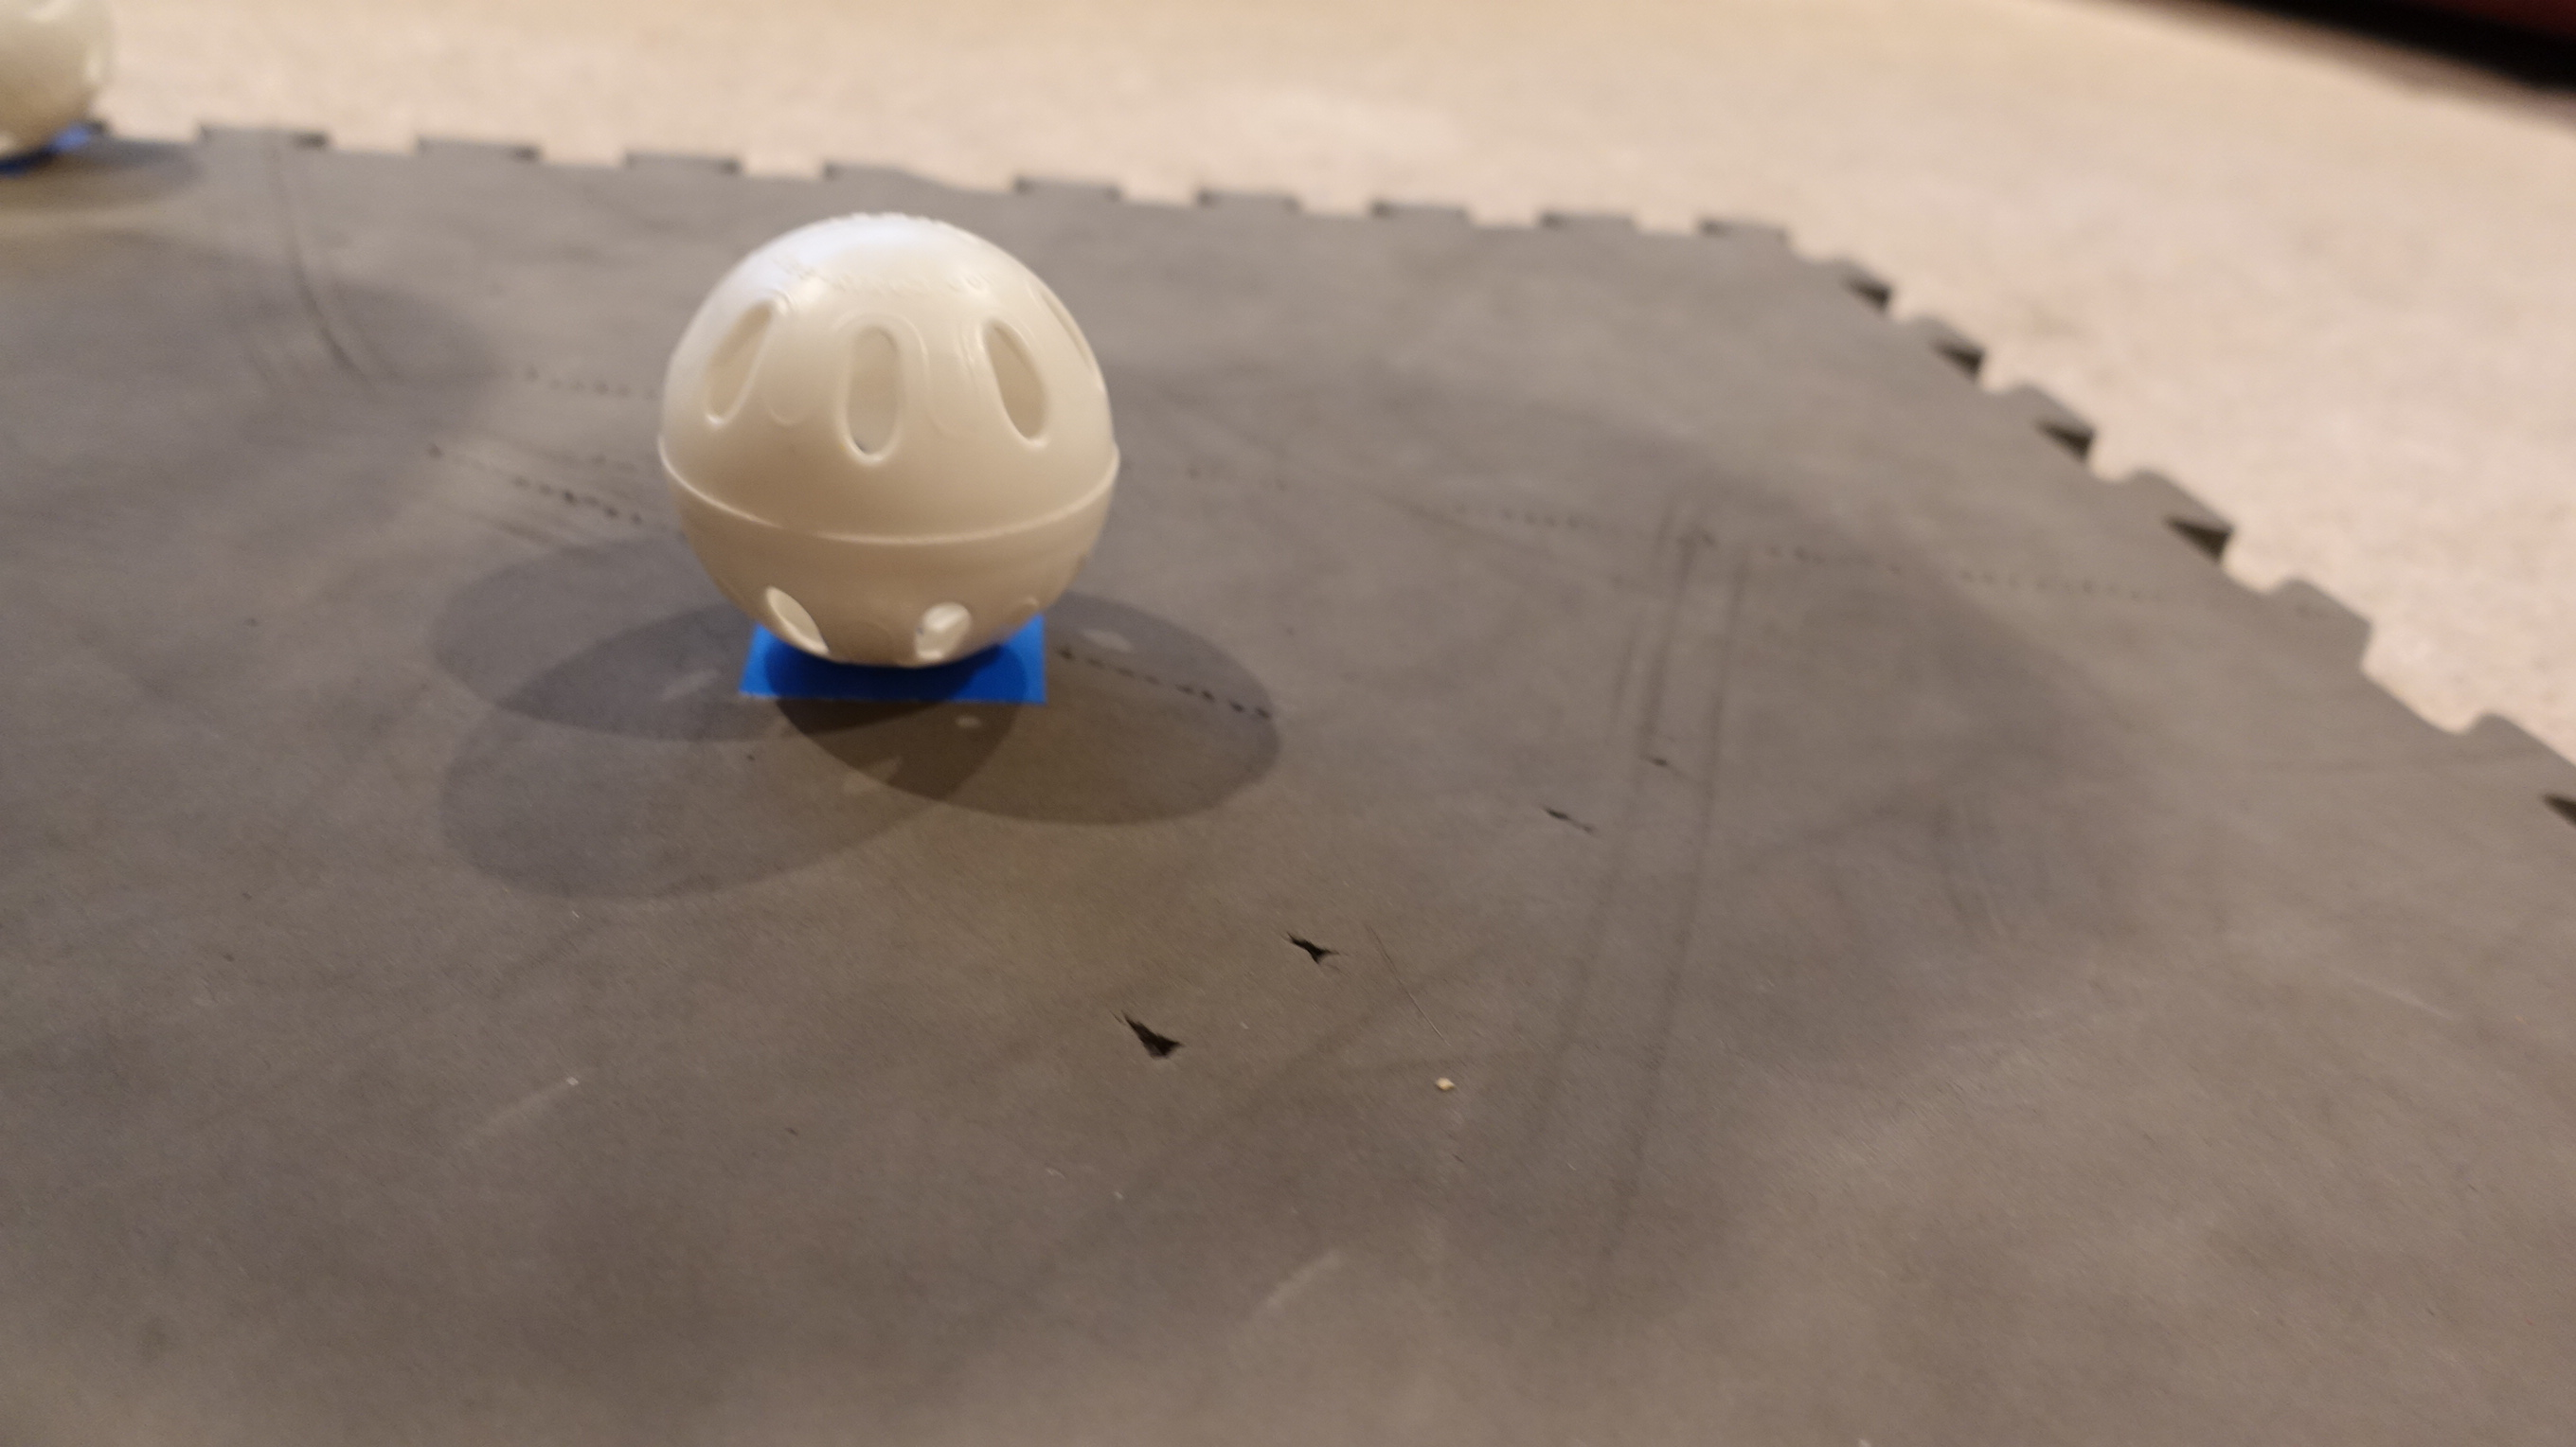silver: (662, 211, 1118, 672), (2, 2, 103, 165)
